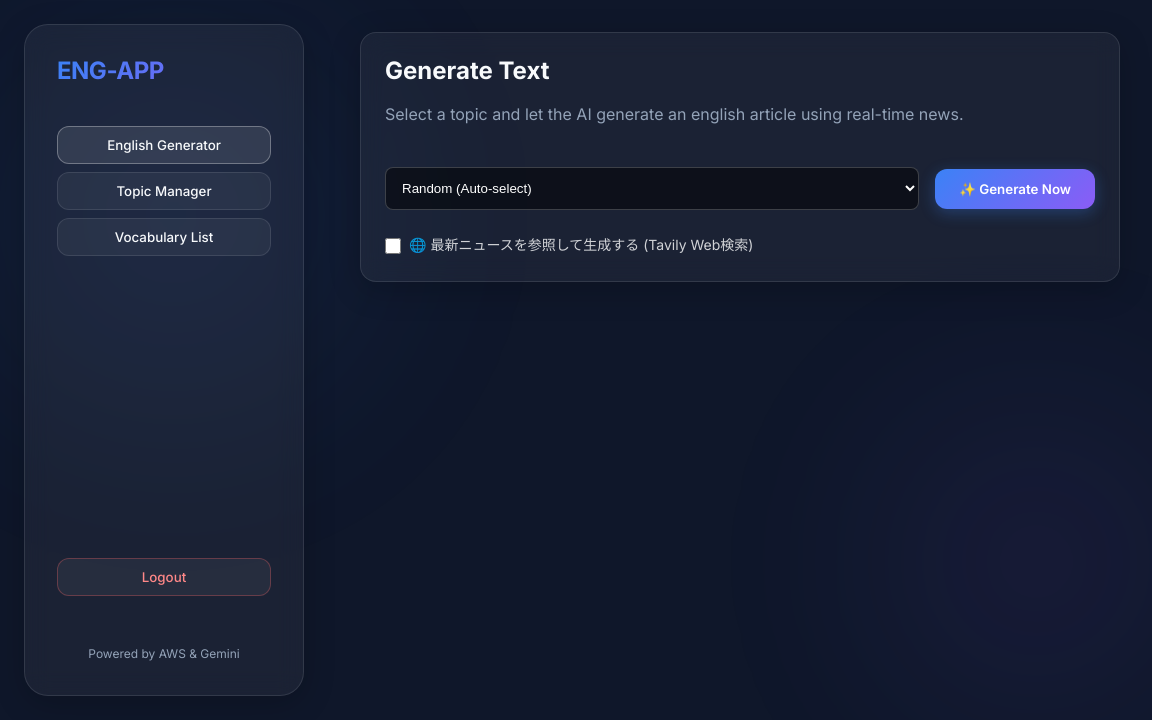
Scenario: App Component (Routing & Auth Integration) › navigates between tabs via sidebar buttons
The image size is (1152, 720).
Expected: the heading "Generate Text" is shown, [385,56,550,85]
# Topic Manager へ切り替え
Click the button "Topic Manager".
click(164, 191)  # box [57,172,271,210]
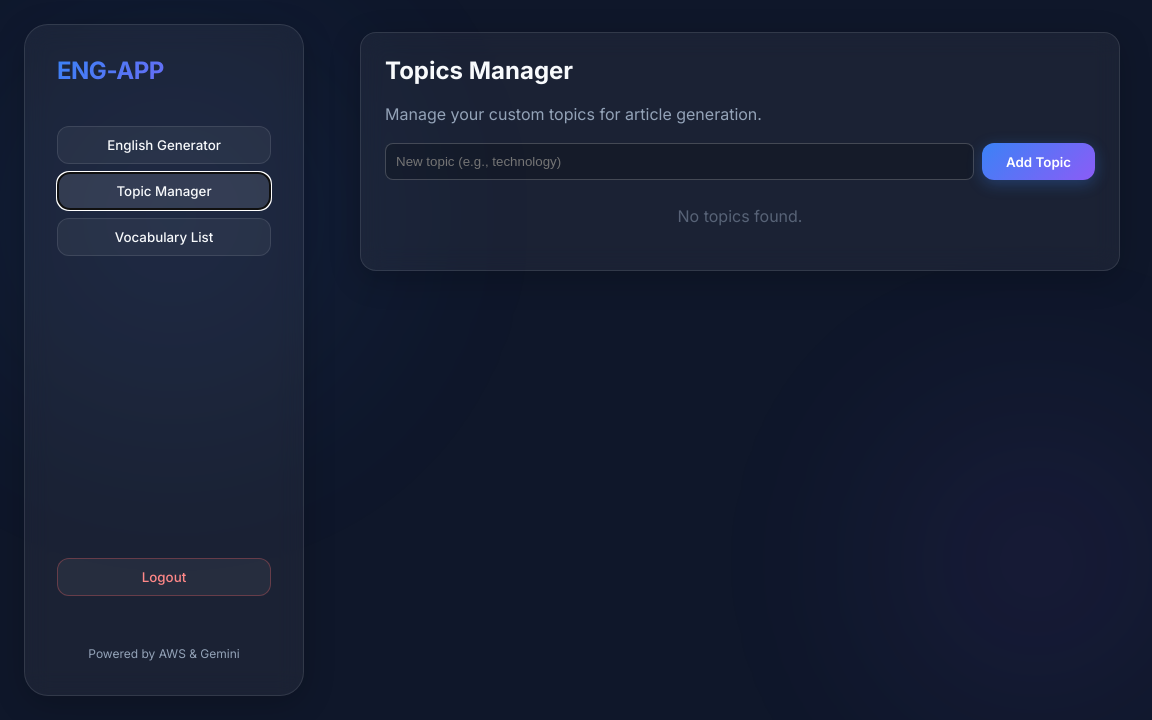
Expected: the heading "Topics Manager" is shown, [385,56,573,85]
# Vocabulary List へ切り替え
Click the button "Vocabulary List".
click(164, 237)  # box [57,218,271,256]
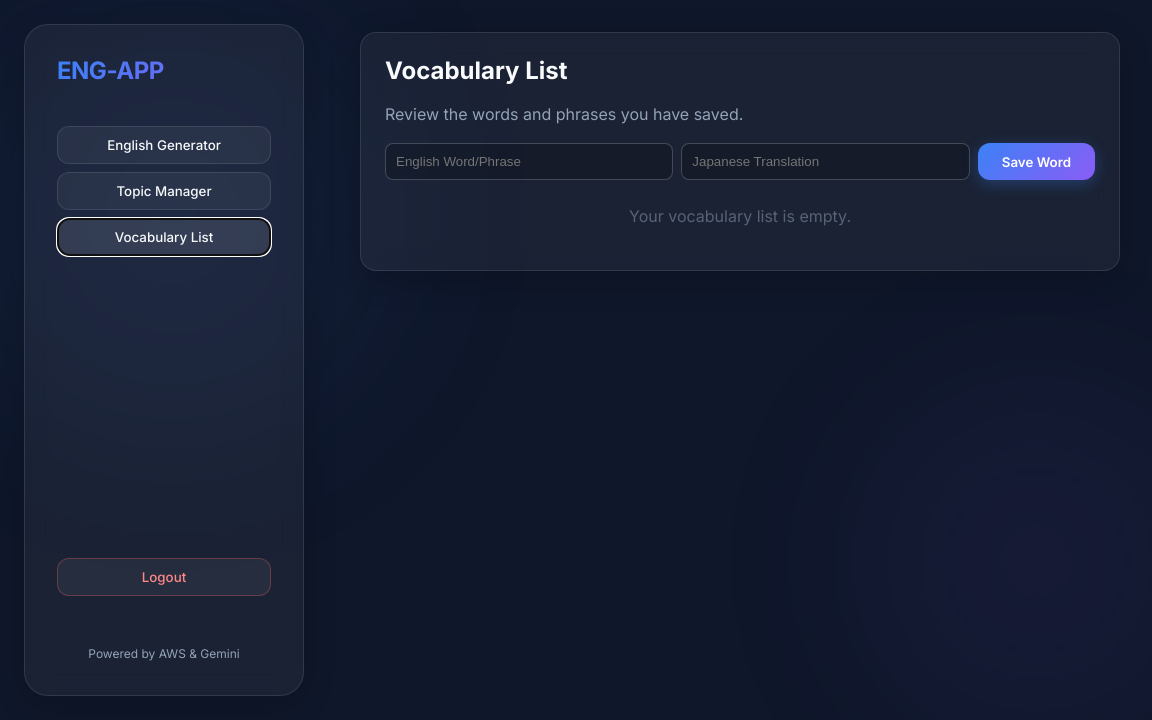
Expected: the heading "Vocabulary List" is shown, [385,56,568,85]
# English Generator に戻る
Click the button "English Generator".
click(164, 145)  # box [57,126,271,164]
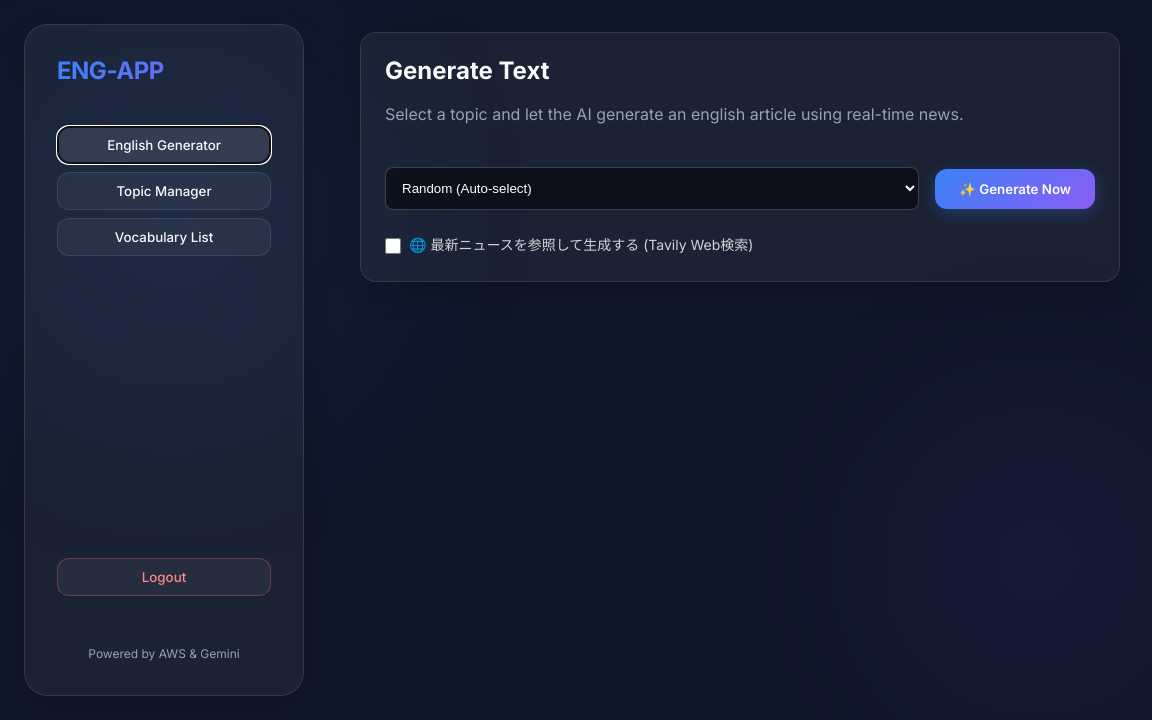
Expected: the heading "Generate Text" is shown, [385,56,550,85]
